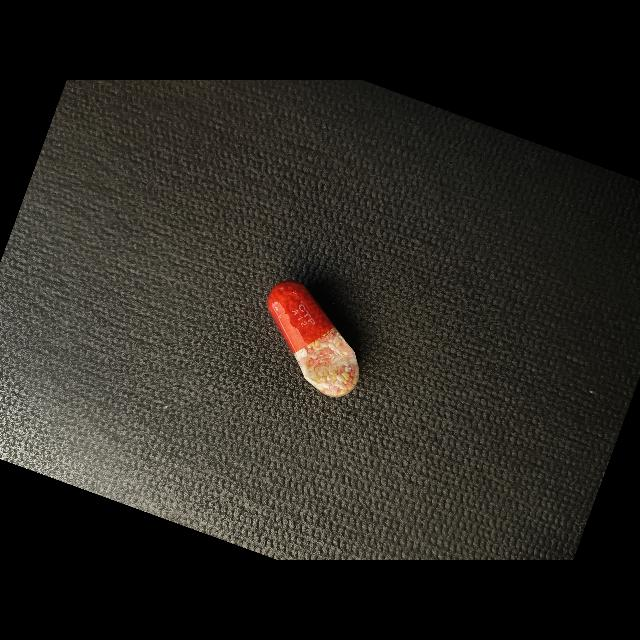Defective Capsule: (267, 282, 359, 397)
